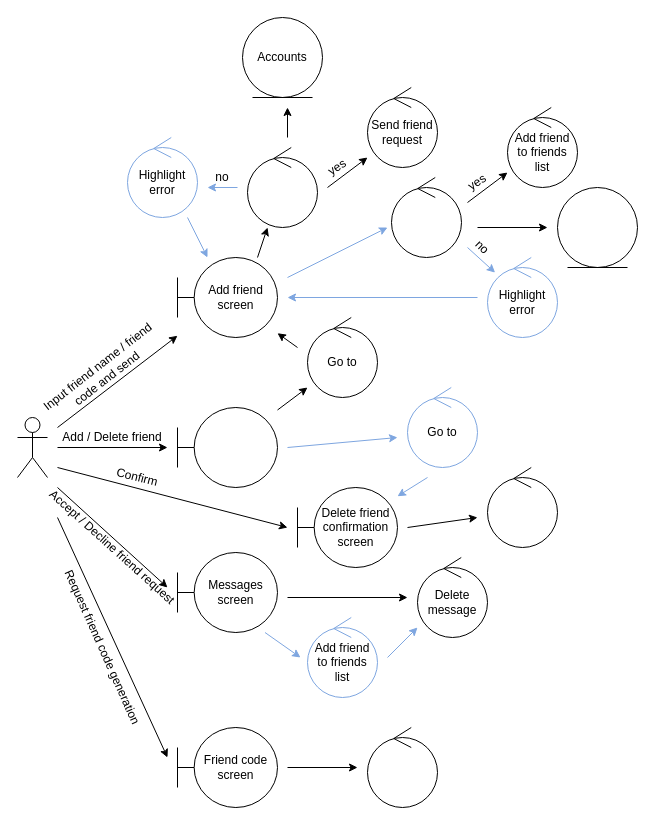
The diagram is 655 pixels wide and 825 high, and some of its shapes have lost their labels. Each missing label, with the centre of its shape:
Delete friend: point 522,507
Friend code valid?: point 426,217
Friends screen: point 227,447
Generate friend code: point 402,767
Generated friend codes: point 597,227
User: point 32,447
Username exists?: point 282,187
